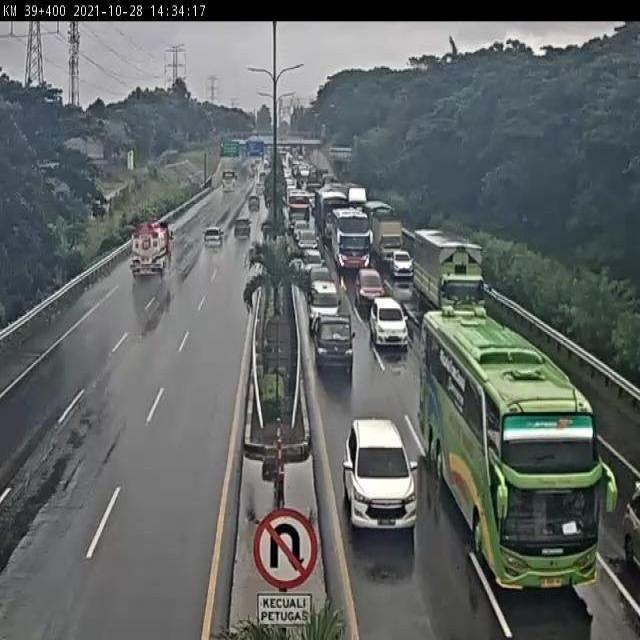big bus: (421, 317, 620, 591), (330, 205, 370, 263), (314, 190, 347, 242), (285, 191, 313, 232), (215, 168, 238, 200)
big truck: (404, 222, 486, 314), (364, 202, 404, 266)
car: (337, 412, 417, 533), (312, 310, 355, 378), (129, 220, 177, 277), (371, 294, 411, 350), (356, 267, 389, 317), (302, 260, 335, 296), (202, 224, 225, 256), (341, 250, 367, 278), (229, 218, 251, 250), (393, 249, 413, 280), (297, 238, 318, 266), (296, 224, 318, 248), (244, 194, 263, 218), (302, 250, 323, 270), (292, 220, 309, 240)
